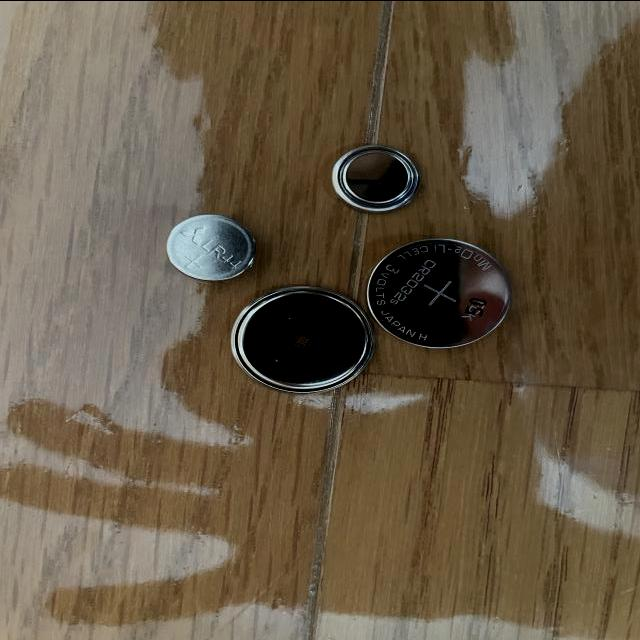COIN: (366, 233, 514, 349), (228, 283, 378, 395), (163, 208, 261, 283), (328, 139, 422, 217)
